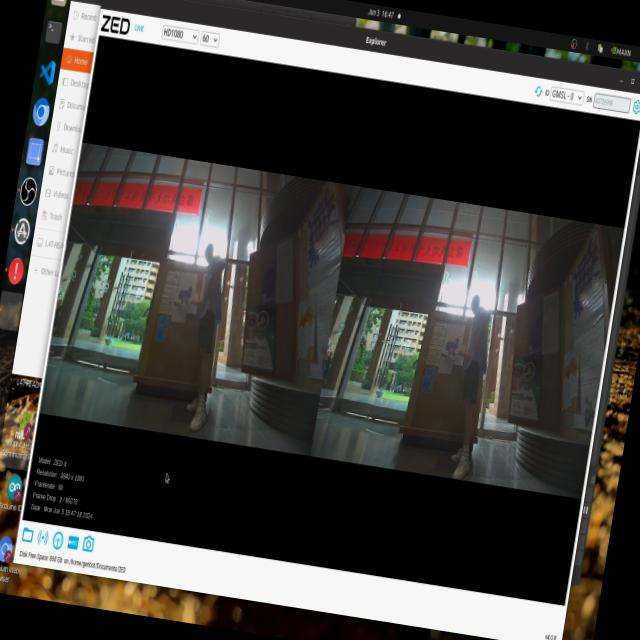blue: (434, 328, 471, 372), (175, 280, 198, 323)
